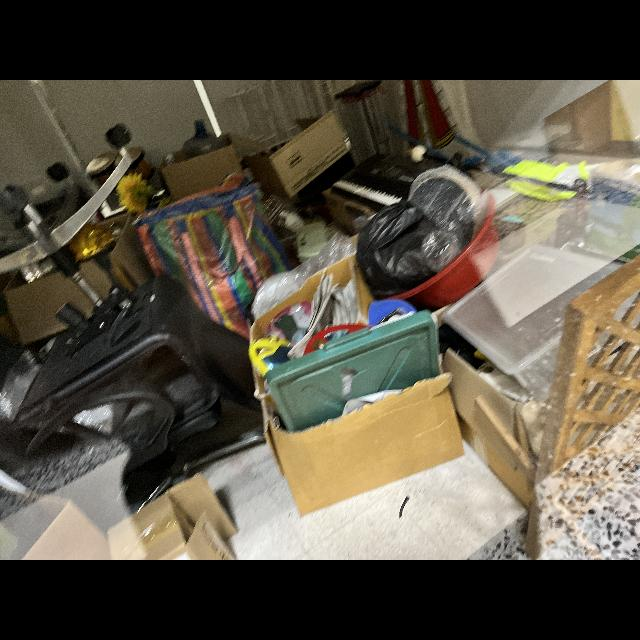cardboard_box: (260, 376, 472, 518), (109, 472, 234, 560), (243, 107, 357, 193)
